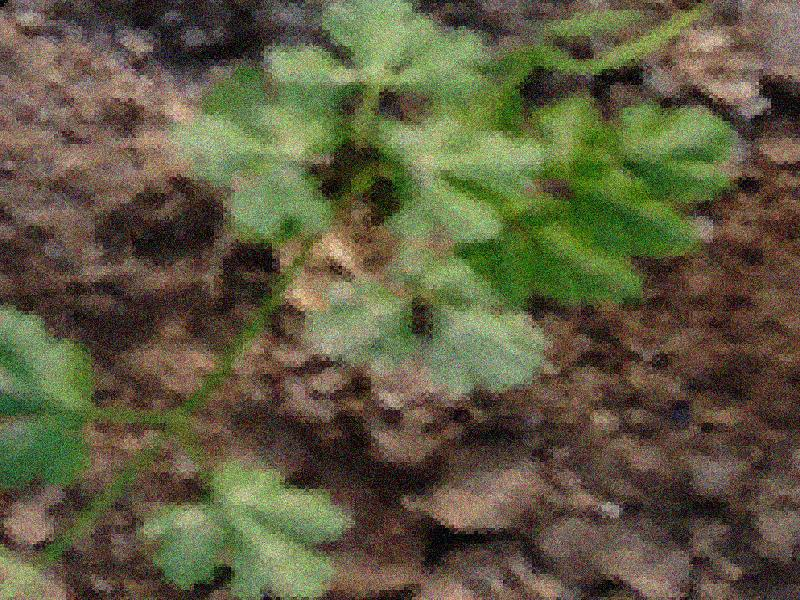radish: (48, 36, 697, 497)
